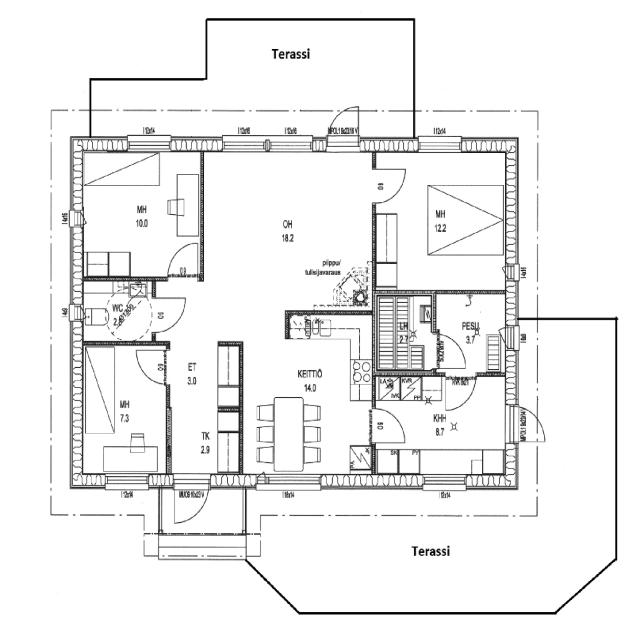door: (170, 474, 211, 530), (147, 294, 189, 335), (368, 404, 408, 446), (133, 343, 169, 386), (165, 239, 203, 279), (372, 163, 409, 204), (511, 404, 548, 445), (444, 376, 476, 413), (437, 332, 468, 368), (328, 104, 361, 137)
window: (258, 472, 327, 494), (220, 135, 268, 154), (421, 472, 468, 490), (125, 135, 172, 153), (268, 136, 315, 154), (104, 474, 150, 492), (417, 136, 463, 154)
zone: (201, 149, 377, 318), (374, 153, 512, 289), (70, 149, 201, 277), (254, 342, 374, 479), (372, 374, 521, 482), (76, 342, 170, 484), (435, 291, 508, 375), (254, 398, 326, 475), (374, 291, 437, 374), (76, 279, 156, 342)
